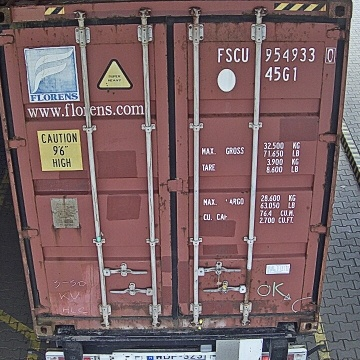serial_id: (218, 47, 335, 62)
